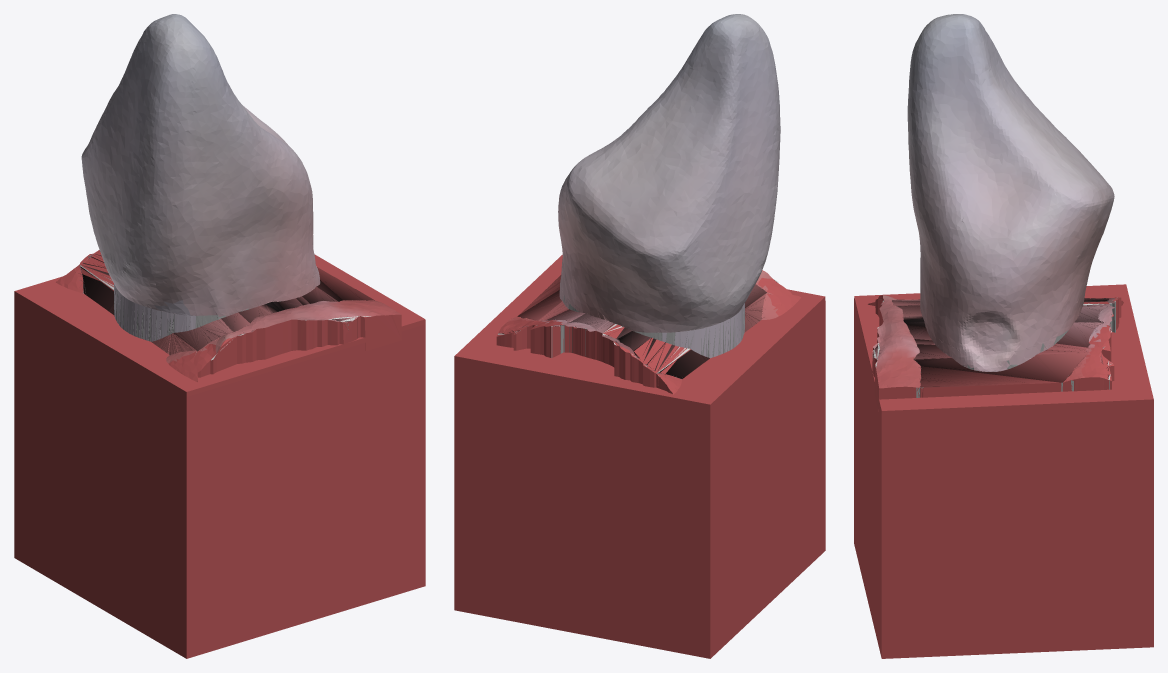
The model's file is PC clase IV.glb.
3 views of the same model, side by side, from view 1: azimuth 30°, elevation 25°; view 2: azimuth 150°, elevation 25°; view 3: azimuth 270°, elevation 25° (orthographic). The views are drawn at different scales.
Visible parts, largest first — view 1: CLASE IV - corte - combinado; view 2: CLASE IV - corte - combinado; view 3: CLASE IV - corte - combinado.
Boxes of the visible parts, x1,y1,x2,y2 form: CLASE IV - corte - combinado: [14, 14, 425, 658]; CLASE IV - corte - combinado: [454, 14, 825, 658]; CLASE IV - corte - combinado: [854, 14, 1153, 658].
Bounding box in the file's own units: 10.96 × 22.09 × 10.96.
